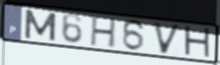6: (121, 18, 149, 52), (60, 13, 84, 45)
H: (183, 24, 213, 61), (88, 15, 119, 50)
M: (23, 8, 59, 43)
V: (151, 21, 183, 57)
